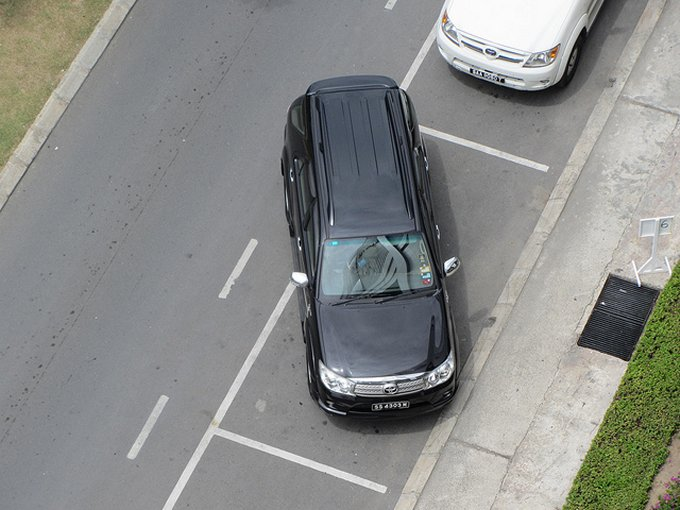car: (224, 67, 491, 435), (429, 1, 585, 109)
